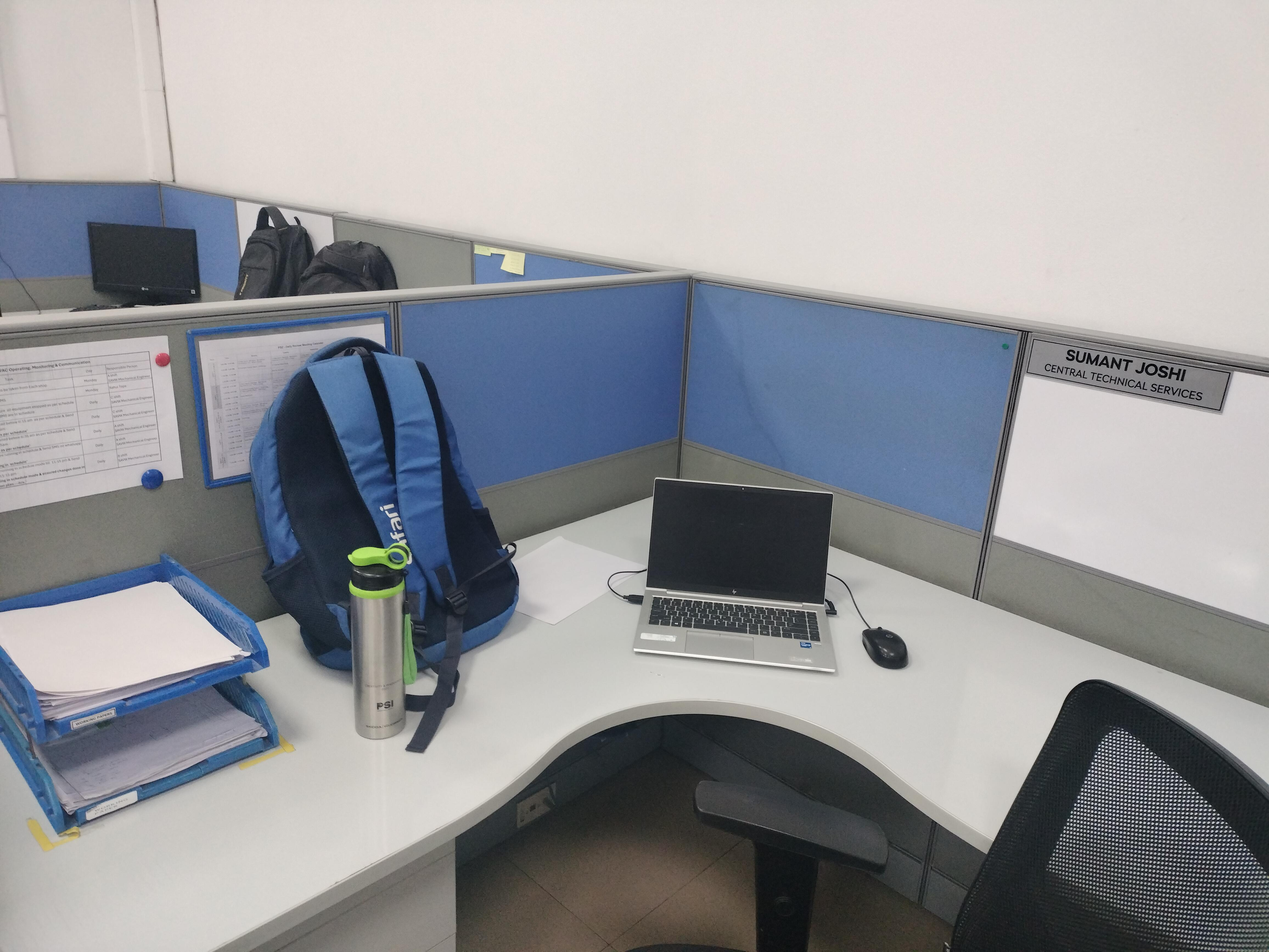bag: (245, 335, 526, 753)
bottle: (347, 542, 419, 740)
calender: (182, 302, 395, 492)
filetray: (0, 544, 276, 835)
laptop: (629, 473, 839, 677)
mouse: (862, 625, 910, 671)
nameplate: (1015, 329, 1247, 415)
page: (3, 580, 251, 725), (0, 332, 188, 520), (38, 691, 269, 815), (514, 533, 643, 627)
